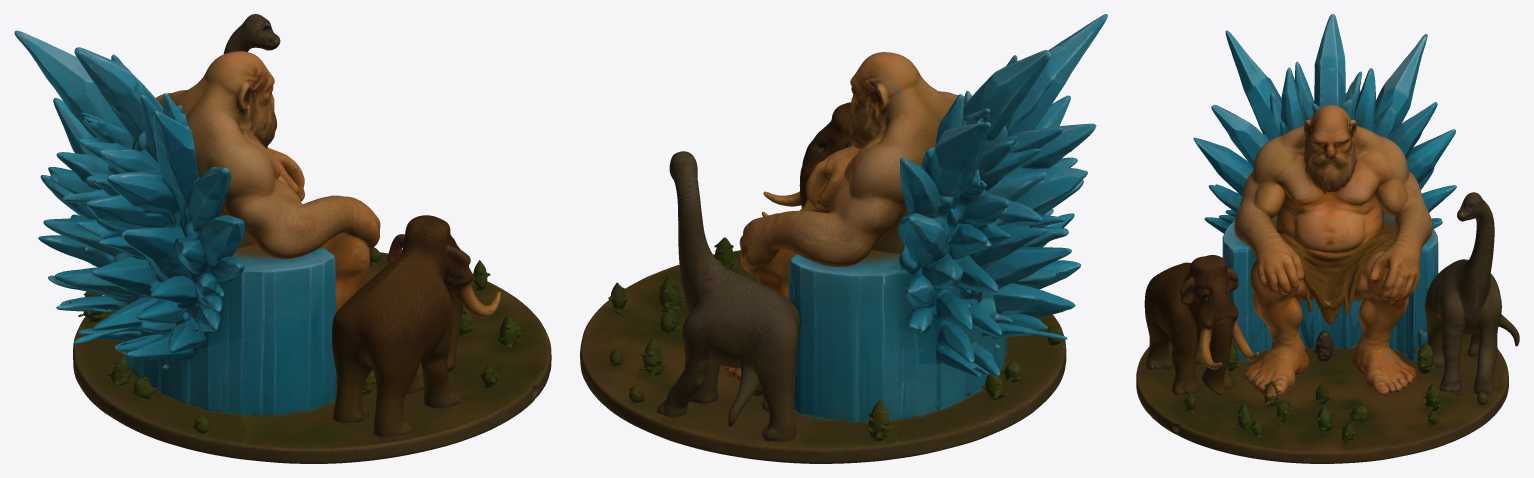
The picture shows the model from 3 angles, left to right: view 1: azimuth 30°, elevation 25°; view 2: azimuth 150°, elevation 25°; view 3: azimuth 270°, elevation 25°; orthographic projection. The views are drawn at different scales.
Visible parts, largest first — view 1: tripo_node_55d956cf-2486-41f3-a559-b33615f31654; view 2: tripo_node_55d956cf-2486-41f3-a559-b33615f31654; view 3: tripo_node_55d956cf-2486-41f3-a559-b33615f31654.
Part boxes in pixels (x1,y1,x2,y2): tripo_node_55d956cf-2486-41f3-a559-b33615f31654: (14, 14, 551, 463); tripo_node_55d956cf-2486-41f3-a559-b33615f31654: (580, 14, 1107, 463); tripo_node_55d956cf-2486-41f3-a559-b33615f31654: (1136, 14, 1519, 463).
Size of the model in its own units: 1 by 0.7794 by 0.9476.
Materials: 1 (1 with a texture image).
